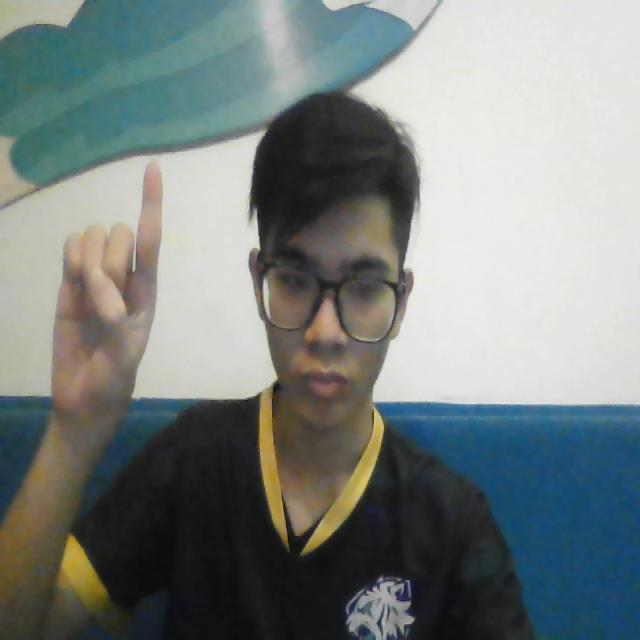D: (45, 148, 168, 404)
